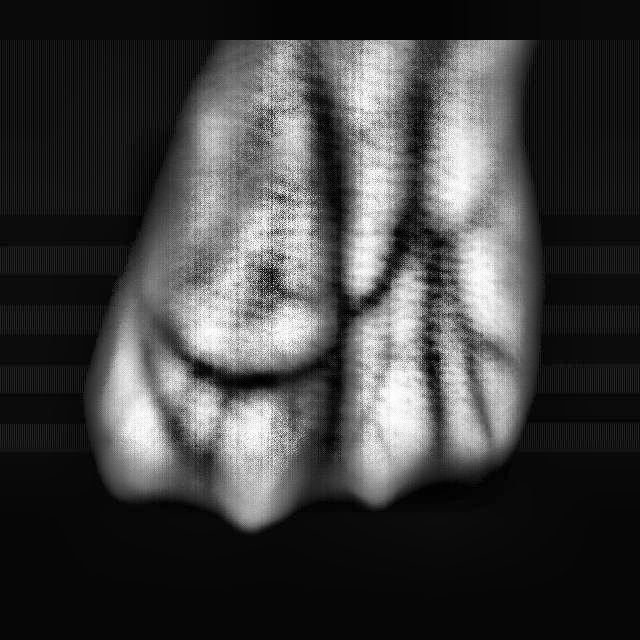Vein: (385, 69, 441, 293), (305, 99, 359, 329)
